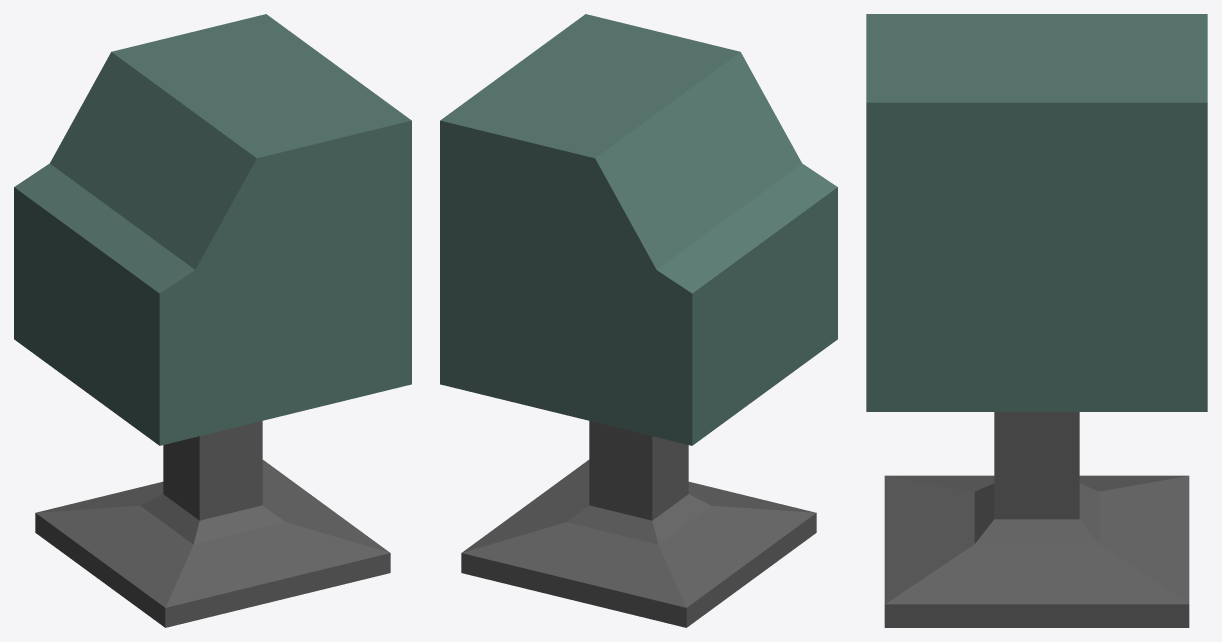
File: MailBox.glb
3 views of the same model, side by side, from view 1: azimuth 30°, elevation 25°; view 2: azimuth 150°, elevation 25°; view 3: azimuth 270°, elevation 25° (orthographic). The views are drawn at different scales.
Parts seen in each view (by area): view 1: Cube.104; view 2: Cube.104; view 3: Cube.104.
Boxes of the visible parts, x1,y1,x2,y2 form: Cube.104: [14, 14, 411, 627]; Cube.104: [440, 14, 837, 627]; Cube.104: [866, 14, 1207, 627].
Size of the model in its own units: 2 by 3.45 by 2.
